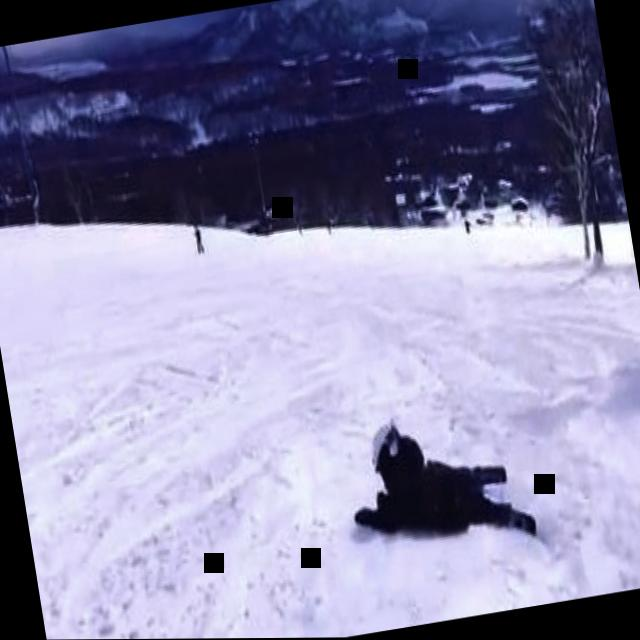Fall-Detected: (338, 383, 550, 573)
